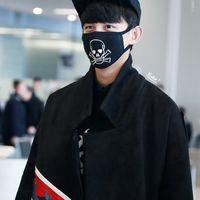OK: (81, 20, 126, 65)
